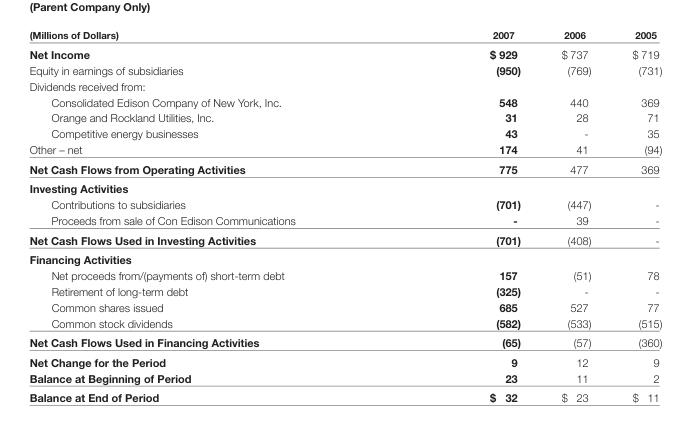table: (28, 28, 661, 403)
table column: (28, 28, 391, 403), (391, 28, 540, 403), (540, 28, 611, 403), (611, 28, 661, 403)
table column header: (28, 28, 661, 43)
table projected row header: (28, 178, 661, 196), (28, 249, 661, 266), (28, 77, 661, 93)
table row: (28, 158, 661, 178), (28, 229, 661, 249), (28, 332, 661, 351), (28, 43, 661, 61), (28, 178, 661, 196), (28, 211, 661, 229), (28, 314, 661, 332), (28, 351, 661, 369), (28, 369, 661, 387), (28, 141, 661, 158), (28, 249, 661, 266), (28, 61, 661, 77), (28, 77, 661, 93), (28, 93, 661, 109), (28, 109, 661, 125), (28, 125, 661, 141), (28, 266, 661, 282), (28, 282, 661, 298), (28, 298, 661, 314), (28, 387, 661, 403), (28, 28, 661, 43), (28, 196, 661, 211)
